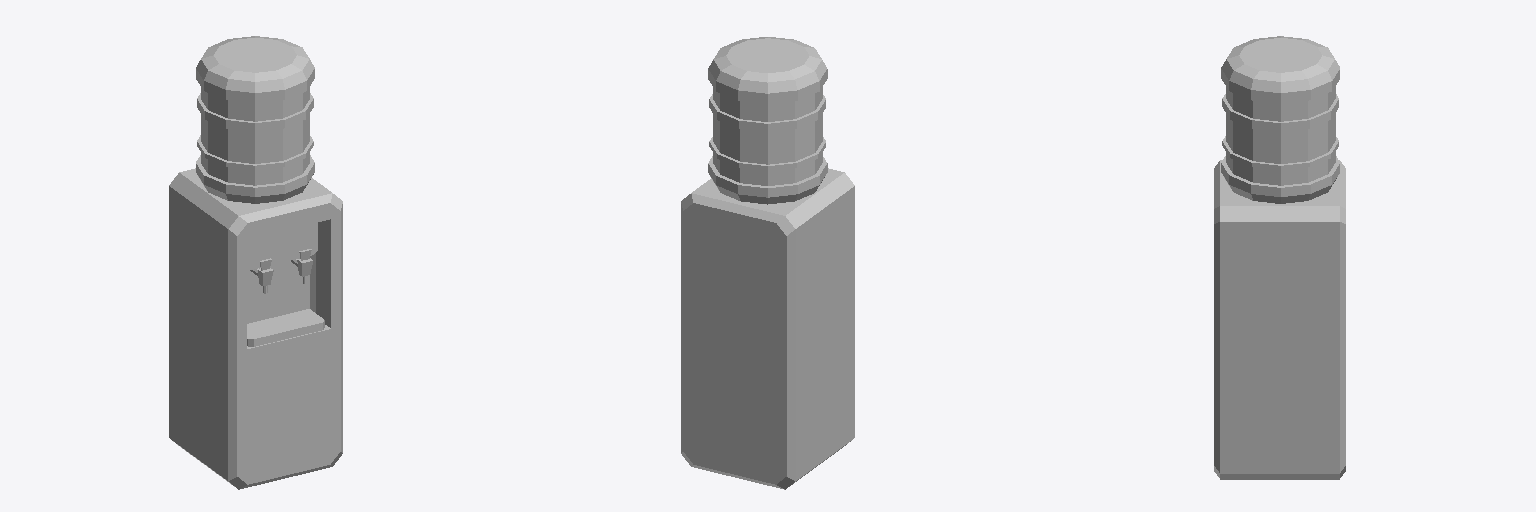
File: SM_Dispenser.obj
3 views of the same model, side by side, from view 1: azimuth 30°, elevation 25°; view 2: azimuth 150°, elevation 25°; view 3: azimuth 270°, elevation 25° (orthographic).
Visible parts, largest first — view 1: Dispenser; view 2: Dispenser; view 3: Dispenser.
Boxes of the visible parts, x1,y1,x2,y2 form: Dispenser: [169, 36, 342, 489]; Dispenser: [681, 37, 854, 489]; Dispenser: [1214, 36, 1345, 479].
Size of the model in its own units: 45 by 150 by 45.